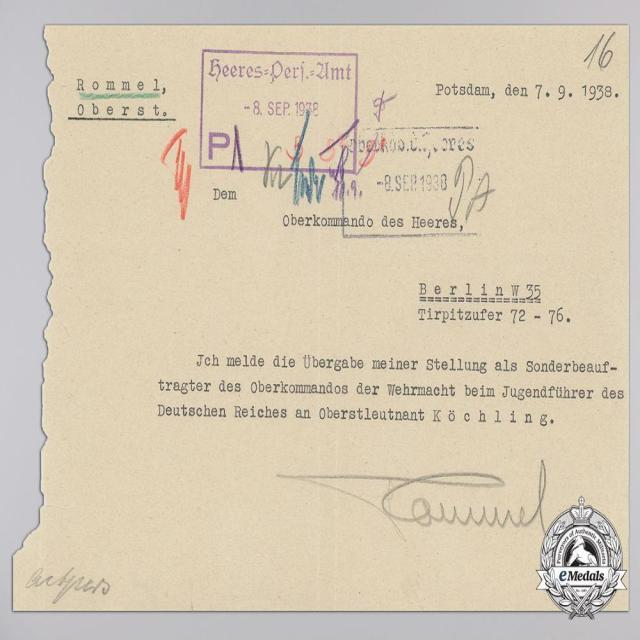signature: (269, 459, 555, 552)
